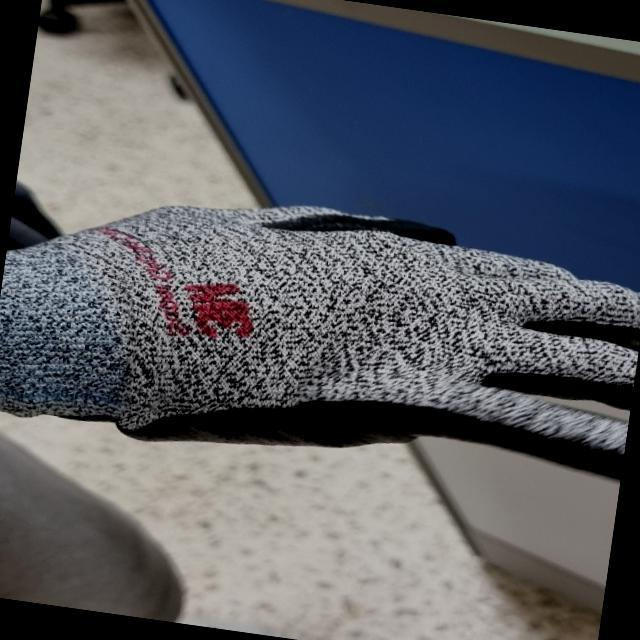Gloves: (5, 206, 640, 446)
